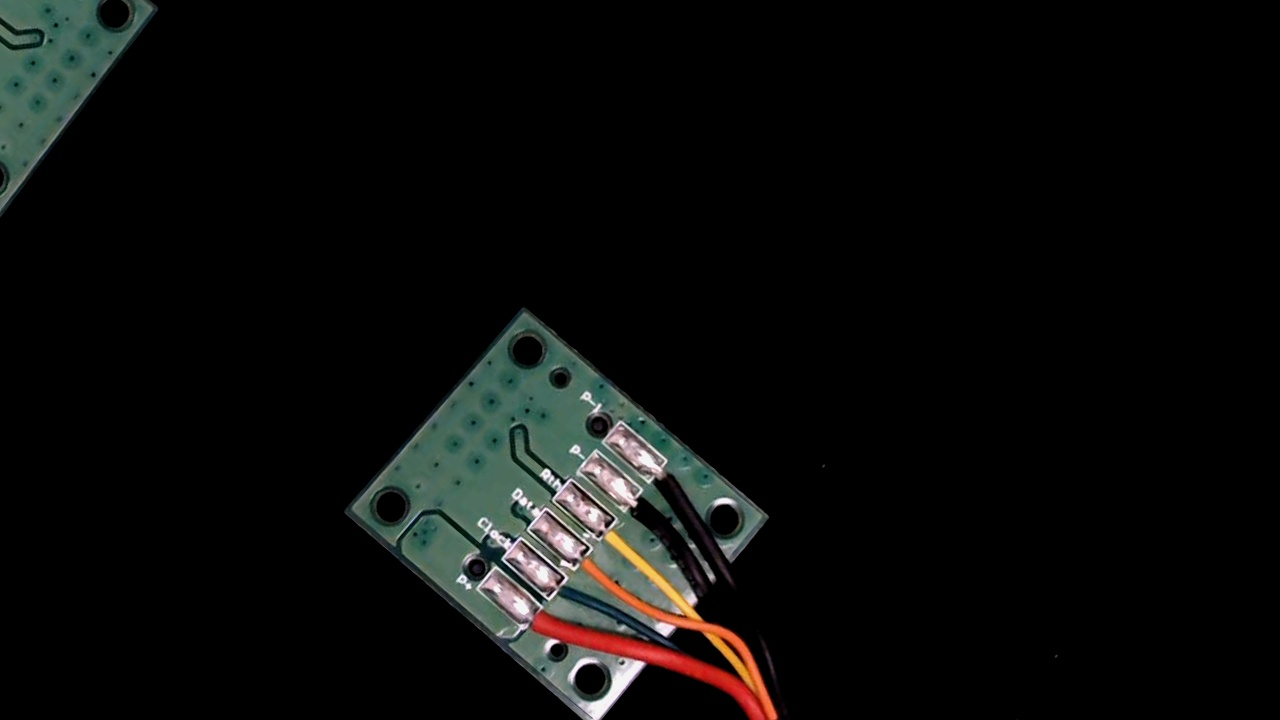Black: (606, 474, 684, 546)
Black1: (633, 446, 705, 514)
Green: (527, 557, 603, 627)
Orange: (557, 535, 633, 605)
Red: (506, 588, 581, 659)
Yellow: (583, 504, 662, 577)
